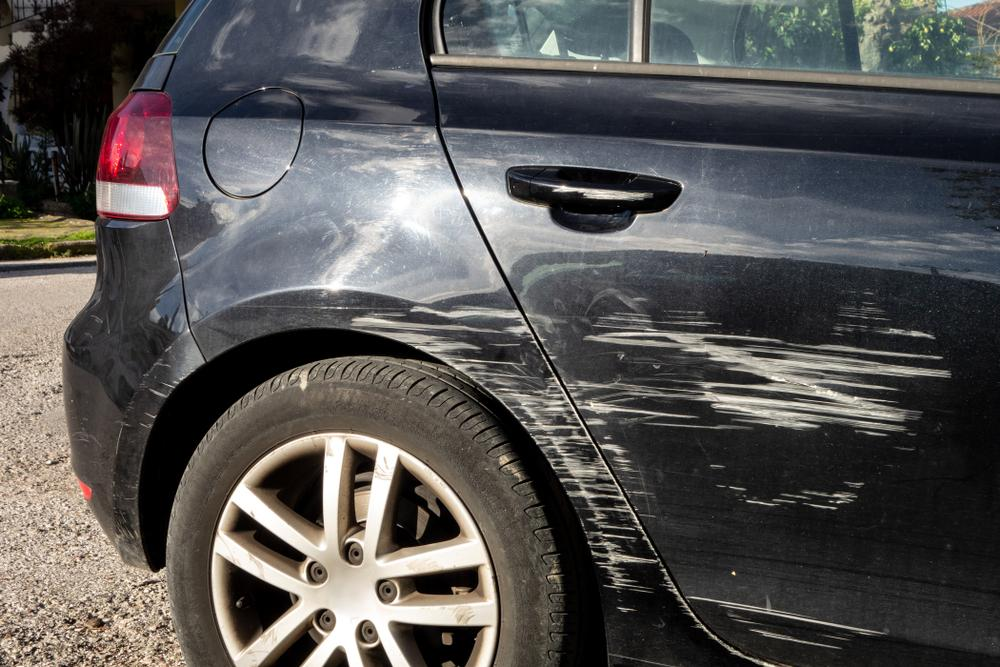scratch: (348, 300, 781, 667), (534, 285, 957, 525), (693, 592, 893, 652), (119, 353, 194, 437)
